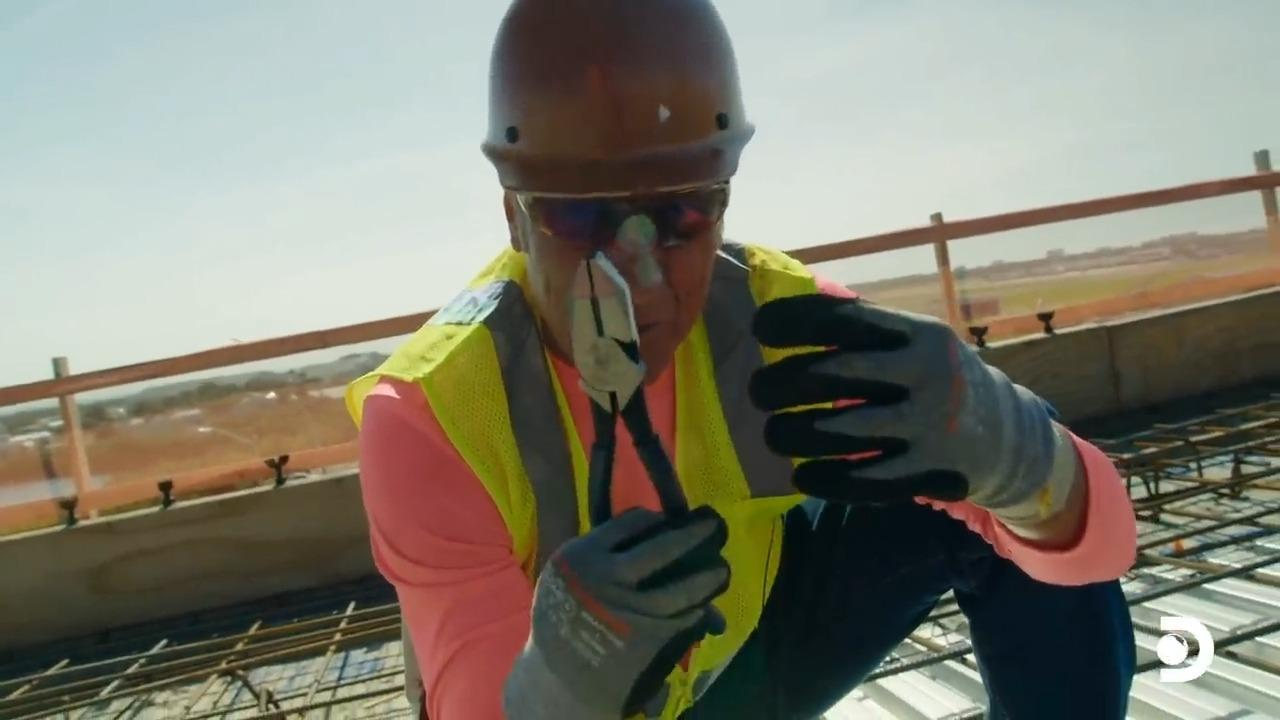Gloves: (768, 285, 1009, 517), (538, 505, 746, 712)
Person: (343, 0, 1139, 718)
Safety Vest: (375, 303, 850, 676)
